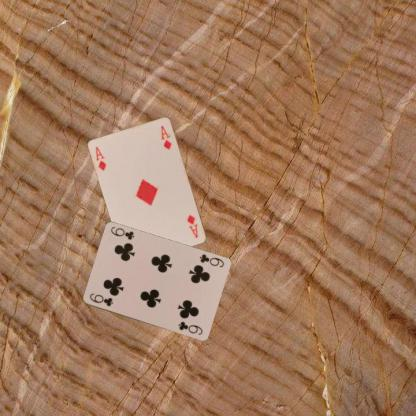6c: (196, 251, 225, 269), (86, 290, 114, 308)
Ad: (184, 212, 200, 239), (93, 144, 107, 171)
